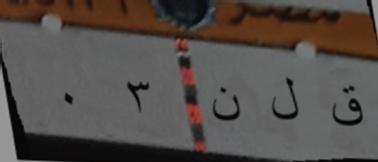0: (55, 82, 82, 118)
3: (122, 72, 158, 118)
laam: (265, 73, 303, 134)
noon: (211, 82, 242, 130)
qaaf: (326, 78, 370, 138)
